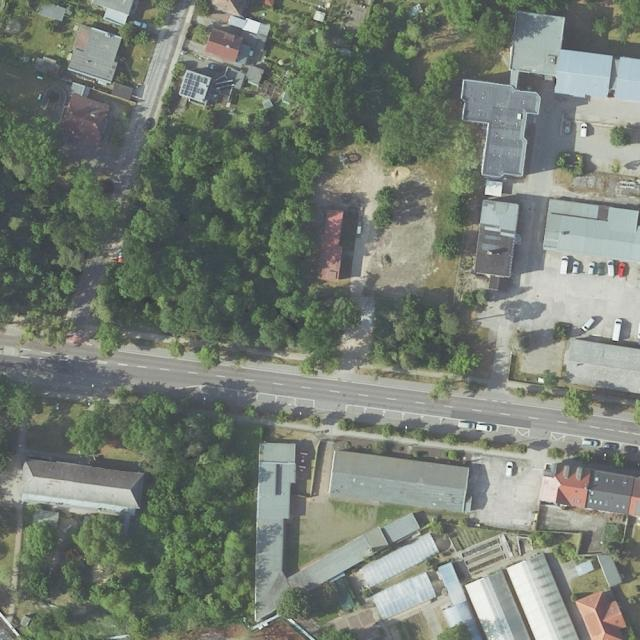PV: (180, 71, 206, 98)
